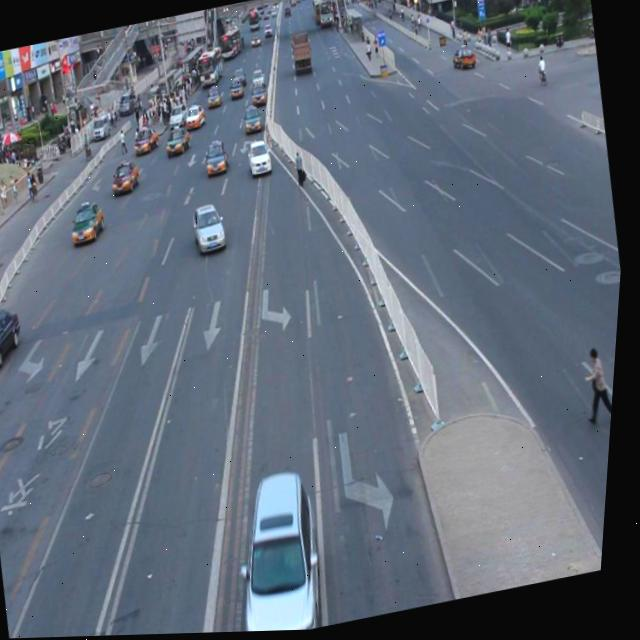car: (226, 463, 343, 634), (190, 199, 234, 259), (0, 303, 33, 370), (68, 200, 112, 247), (109, 158, 144, 198), (246, 138, 277, 182), (202, 139, 234, 180)
